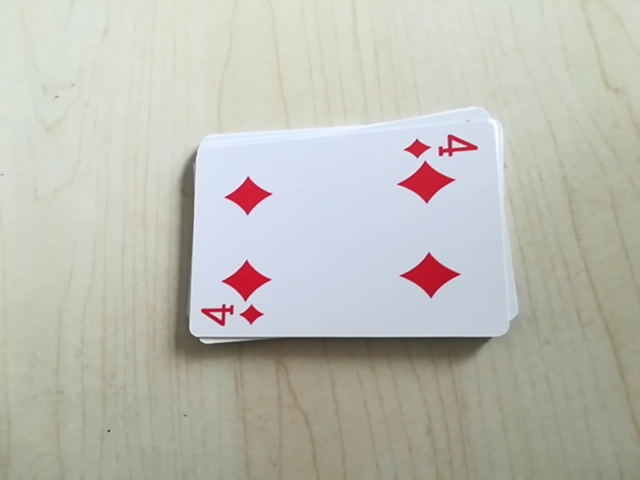fk 4: (401, 123, 487, 164), (194, 299, 267, 336)
